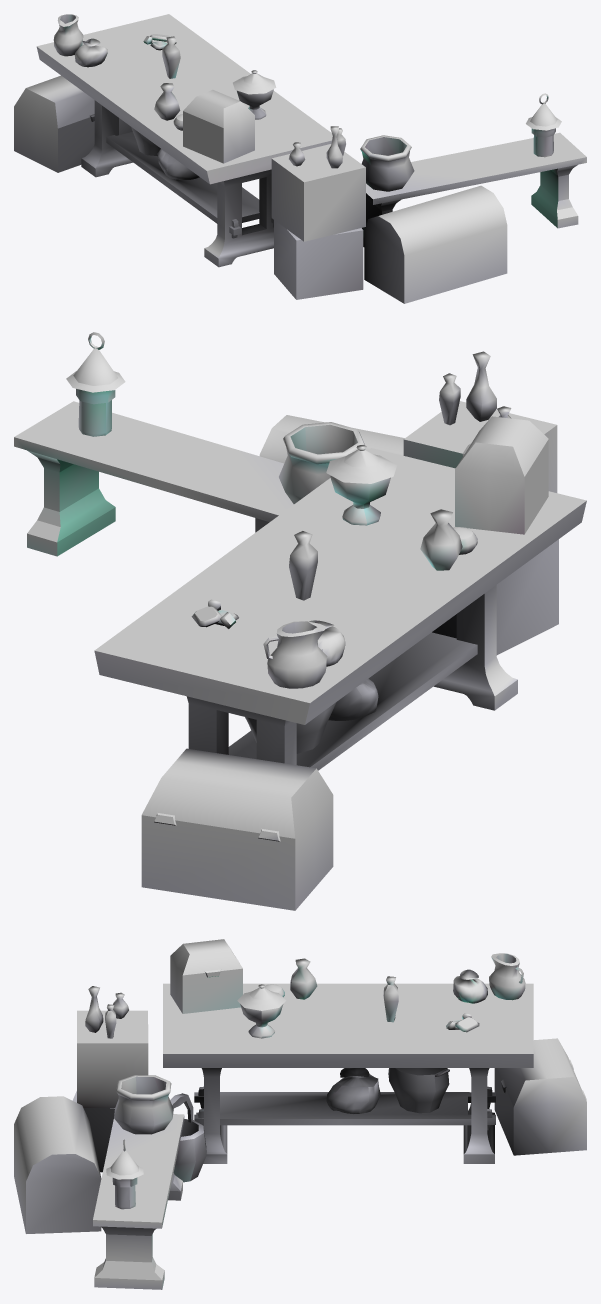
File: tool_achemiy_table.fbx
The picture shows the model from 3 angles, top to bottom: view 1: azimuth 30°, elevation 25°; view 2: azimuth 150°, elevation 25°; view 3: azimuth 270°, elevation 25°; orthographic projection. The views are drawn at different scales.
Visible parts, largest first — view 1: alchemy table:0; view 2: alchemy table:0; view 3: alchemy table:0.
Part boxes in pixels (<box>): alchemy table:0: <box>14,14,586,303</box>; alchemy table:0: <box>14,332,586,910</box>; alchemy table:0: <box>14,939,586,1289</box>.
Size of the model in its own units: 1301 by 571 by 1651.
